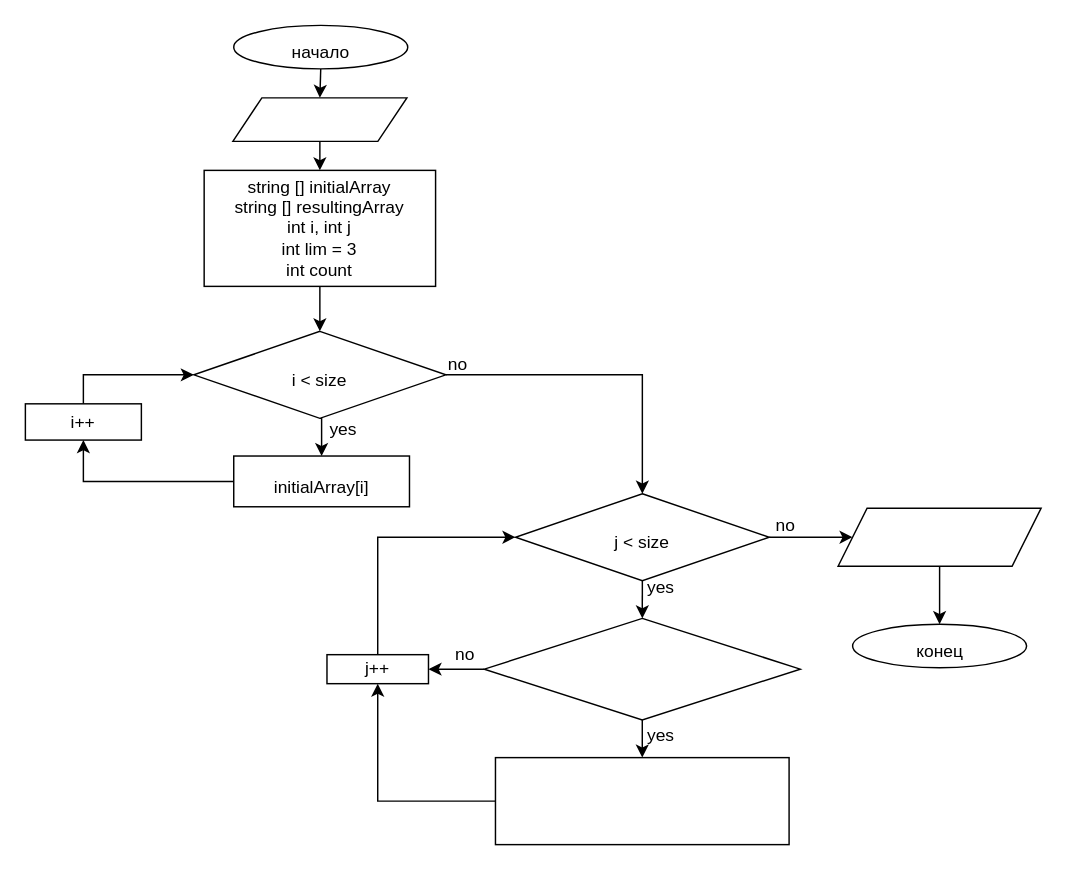
Some shapes in this 1067 by 870 pixel diagram are drawn without their labels. The shapes that lost their labels are listed below. From the top down, each one's box as (x1, y1, x2, y2) in pixels, then its label:
(231, 96, 407, 141): size
(837, 507, 1041, 566): print resultingArray
(483, 617, 800, 720): initialArray[j].Length <= lim
(494, 756, 789, 845): resultingArray[count] = initialArray[j] count ++
